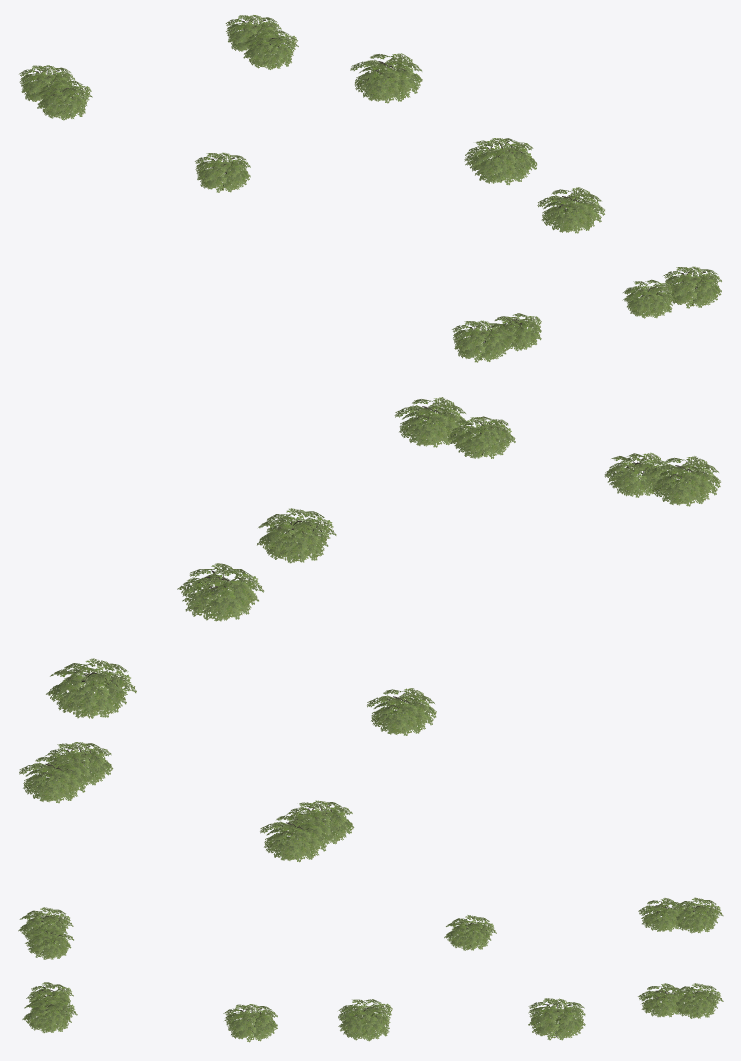
Rendered from Tree_Cemetery.fbx.
The picture shows the model from 3 angles, top to bottom: view 1: azimuth 30°, elevation 25°; view 2: azimuth 150°, elevation 25°; view 3: azimuth 270°, elevation 25°; orthographic projection. The views are drawn at different scales.
Visible parts, largest first — view 1: Vegetation_Shurb_01A_43, Vegetation_Shurb_01A_37, Vegetation_Shurb_01A_40, Vegetation_Shurb_01A_32, Vegetation_Shurb_01A_34, Vegetation_Shurb_01A_33, Vegetation_Shurb_01A_39, Vegetation_Shurb_01A_42, Vegetation_Shurb_01A_35, Vegetation_Shurb_01A_41, Vegetation_Shurb_01A_38, Vegetation_Shurb_01A_36; view 2: Vegetation_Shurb_01A_43, Vegetation_Shurb_01A_37, Vegetation_Shurb_01A_40, Vegetation_Shurb_01A_32, Vegetation_Shurb_01A_34, Vegetation_Shurb_01A_33, Vegetation_Shurb_01A_41, Vegetation_Shurb_01A_38, Vegetation_Shurb_01A_35, Vegetation_Shurb_01A_36, Vegetation_Shurb_01A_39, Vegetation_Shurb_01A_42; view 3: Vegetation_Shurb_01A_43, Vegetation_Shurb_01A_37, Vegetation_Shurb_01A_40, Vegetation_Shurb_01A_34, Vegetation_Shurb_01A_33, Vegetation_Shurb_01A_41, Vegetation_Shurb_01A_38, Vegetation_Shurb_01A_32, Vegetation_Shurb_01A_42, Vegetation_Shurb_01A_39, Vegetation_Shurb_01A_36, Vegetation_Shurb_01A_35.
Part boxes in pixels (x1,y1,x2,y2): Vegetation_Shurb_01A_43: (350,53,422,103); Vegetation_Shurb_01A_37: (464,138,537,185); Vegetation_Shurb_01A_40: (537,187,604,233); Vegetation_Shurb_01A_32: (452,320,510,362); Vegetation_Shurb_01A_34: (663,266,721,308); Vegetation_Shurb_01A_33: (195,152,250,192); Vegetation_Shurb_01A_39: (36,80,92,120); Vegetation_Shurb_01A_42: (243,29,298,69); Vegetation_Shurb_01A_35: (622,279,674,318); Vegetation_Shurb_01A_41: (225,15,281,51); Vegetation_Shurb_01A_38: (19,65,75,101); Vegetation_Shurb_01A_36: (491,313,541,351); Vegetation_Shurb_01A_43: (46,658,136,718); Vegetation_Shurb_01A_37: (177,563,264,621); Vegetation_Shurb_01A_40: (257,508,336,563); Vegetation_Shurb_01A_32: (648,456,720,506); Vegetation_Shurb_01A_34: (394,397,467,447); Vegetation_Shurb_01A_33: (367,688,436,735); Vegetation_Shurb_01A_41: (19,755,88,803); Vegetation_Shurb_01A_38: (260,814,329,862); Vegetation_Shurb_01A_35: (448,416,515,458); Vegetation_Shurb_01A_36: (604,452,670,497); Vegetation_Shurb_01A_39: (286,800,354,844); Vegetation_Shurb_01A_42: (45,742,113,786); Vegetation_Shurb_01A_43: (528,998,585,1040); Vegetation_Shurb_01A_37: (338,999,392,1041); Vegetation_Shurb_01A_40: (223,1004,277,1042); Vegetation_Shurb_01A_34: (22,996,77,1033); Vegetation_Shurb_01A_33: (444,915,496,950); Vegetation_Shurb_01A_41: (673,983,723,1018); Vegetation_Shurb_01A_38: (673,897,723,933); Vegetation_Shurb_01A_32: (18,907,73,939); Vegetation_Shurb_01A_42: (638,983,684,1017); Vegetation_Shurb_01A_39: (638,898,684,931); Vegetation_Shurb_01A_36: (25,928,73,959); Vegetation_Shurb_01A_35: (26,982,73,1013).
Bounding box in the file's own units: 1316 × 168 × 2920.
